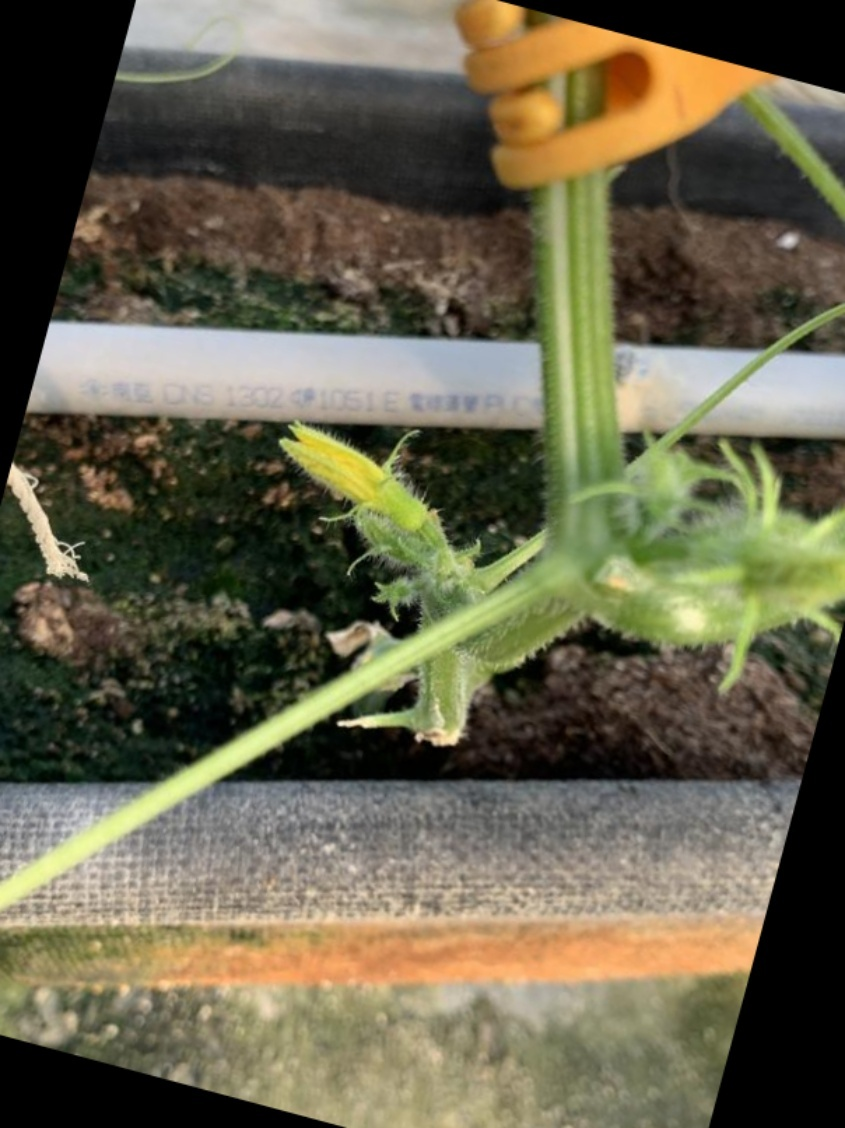bud: (275, 419, 430, 533)
